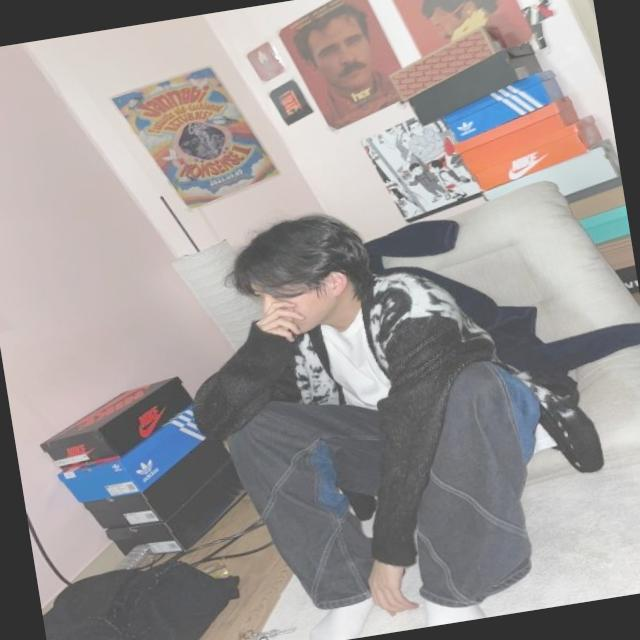cardigan: (167, 255, 527, 600)
denimpants: (216, 349, 574, 640)
